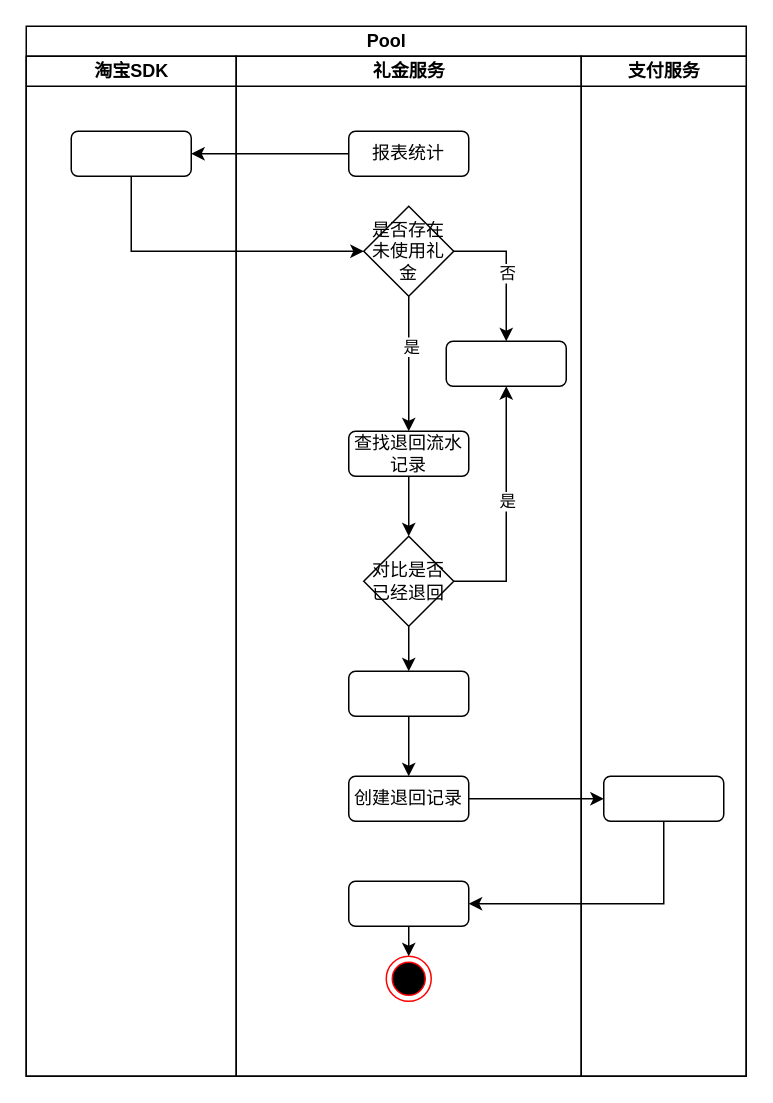
Image size: 773x1103. Some labels were removed from this diagram. The shapes that lost their labels are listed below. From the top down, each one's centre as x and y in pixels, then its label:
(x=130, y=153): 查询礼金使用情况
(x=505, y=363): 不用处理
(x=408, y=693): 计算退回金额
(x=663, y=798): 退回指定余额
(x=408, y=903): 更新退回状态
